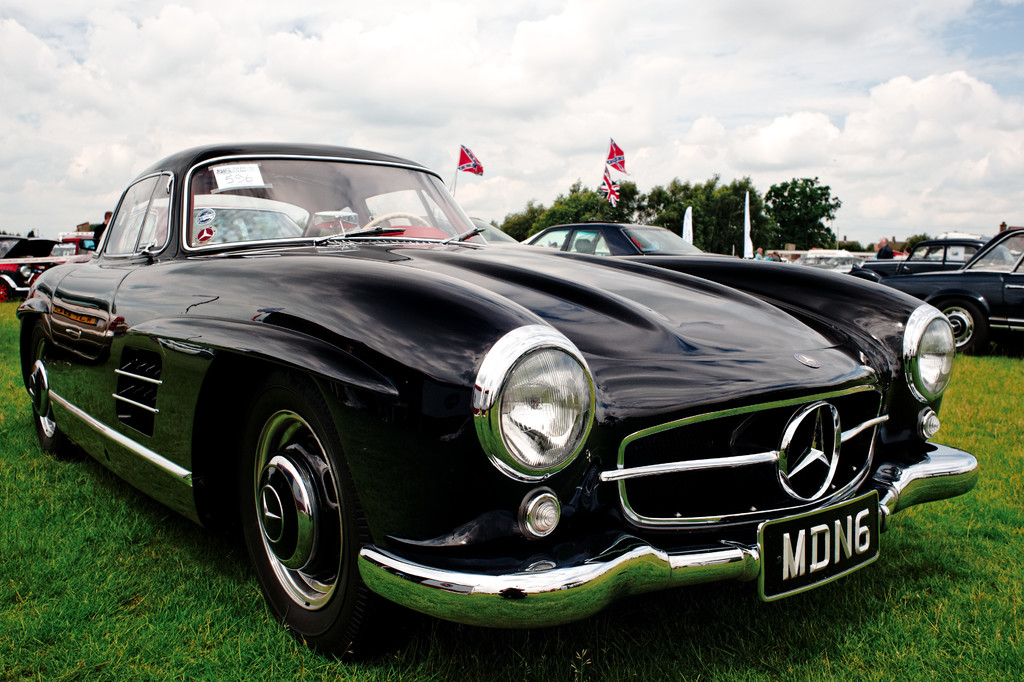Car: (16, 138, 980, 662), (844, 227, 1023, 352), (517, 215, 725, 252), (0, 230, 81, 299)
